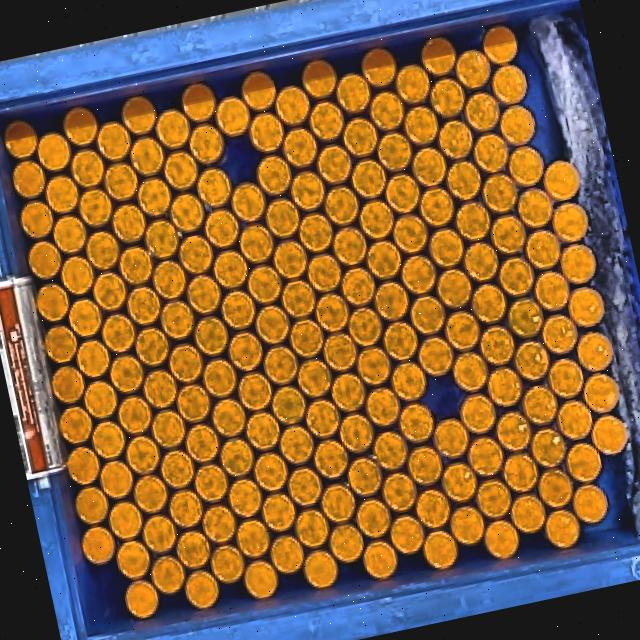vial: (541, 313, 578, 355), (567, 286, 604, 328), (565, 441, 602, 483), (463, 91, 500, 132), (533, 270, 570, 311), (467, 436, 504, 477), (471, 282, 507, 324), (507, 297, 543, 339), (508, 145, 544, 187), (543, 159, 579, 201), (552, 201, 588, 243), (302, 549, 339, 589), (475, 479, 512, 519), (591, 415, 628, 455), (220, 289, 256, 330), (238, 223, 274, 264), (254, 304, 290, 345), (342, 116, 378, 157), (351, 158, 387, 199), (391, 361, 427, 402), (398, 402, 434, 443), (401, 254, 437, 295), (417, 335, 453, 376), (428, 227, 464, 268), (436, 268, 472, 309), (460, 393, 496, 434), (420, 36, 456, 77), (455, 200, 491, 241), (490, 214, 526, 255), (482, 24, 518, 65), (491, 64, 527, 105), (548, 358, 584, 399), (560, 243, 596, 284), (583, 373, 619, 414), (441, 462, 477, 503), (496, 411, 532, 452), (503, 452, 539, 493), (530, 427, 566, 468), (557, 399, 593, 440), (211, 398, 246, 440), (265, 197, 300, 239), (446, 159, 481, 201), (482, 172, 517, 214), (382, 471, 417, 513), (62, 106, 98, 146), (212, 249, 248, 289), (256, 155, 292, 195), (373, 281, 409, 321), (382, 321, 418, 361), (409, 295, 445, 335), (403, 105, 439, 145), (463, 242, 499, 282), (479, 325, 515, 365), (454, 49, 490, 89), (499, 105, 535, 145), (243, 559, 279, 599), (362, 540, 398, 580), (483, 519, 519, 559), (522, 385, 558, 425), (537, 468, 573, 508), (545, 509, 581, 549), (92, 271, 127, 312), (152, 259, 187, 300), (155, 109, 190, 150), (163, 150, 198, 191), (169, 192, 204, 233), (219, 437, 254, 478), (189, 123, 224, 164), (196, 167, 231, 208), (228, 330, 263, 371), (245, 410, 280, 451), (263, 345, 298, 386), (249, 112, 284, 153), (305, 398, 340, 439), (275, 85, 310, 126), (282, 127, 317, 168), (290, 170, 325, 211), (339, 413, 374, 454), (309, 100, 344, 141), (316, 144, 351, 185), (324, 185, 359, 226), (365, 386, 400, 427), (335, 73, 370, 114), (359, 199, 394, 240), (377, 131, 412, 172), (385, 173, 420, 214), (393, 213, 428, 254), (419, 186, 454, 227), (444, 310, 479, 351), (438, 119, 473, 160), (473, 132, 508, 173), (499, 256, 534, 297), (514, 340, 549, 381), (525, 229, 560, 270), (577, 331, 612, 372), (184, 569, 219, 610), (235, 518, 270, 559), (261, 492, 296, 533), (287, 466, 322, 507), (415, 488, 450, 529), (423, 529, 458, 570), (433, 418, 468, 459), (450, 505, 485, 546), (511, 493, 546, 534), (129, 137, 165, 176), (296, 359, 332, 398), (411, 147, 447, 186), (572, 485, 608, 524), (3, 119, 38, 159), (11, 159, 46, 199), (52, 214, 87, 254), (67, 298, 102, 338), (83, 379, 118, 419), (91, 420, 126, 460), (70, 148, 105, 188), (101, 313, 136, 353), (117, 395, 152, 435), (125, 435, 160, 475), (111, 203, 146, 243), (143, 369, 178, 409), (151, 409, 186, 449), (144, 219, 179, 259), (168, 343, 203, 383), (185, 423, 220, 463), (181, 82, 216, 122), (237, 371, 272, 411), (215, 96, 250, 136), (231, 182, 266, 222), (271, 385, 306, 425), (279, 425, 314, 465), (241, 71, 276, 111), (272, 239, 307, 279), (281, 279, 316, 319), (322, 332, 357, 372), (302, 59, 337, 99), (332, 226, 367, 266), (341, 267, 376, 307), (366, 240, 401, 280), (361, 47, 396, 87), (395, 64, 430, 104), (453, 351, 488, 391), (487, 367, 522, 407), (517, 188, 552, 228), (81, 525, 116, 565), (108, 500, 143, 540), (142, 514, 177, 554), (150, 555, 185, 595), (133, 474, 168, 514), (168, 488, 203, 528), (210, 544, 245, 584), (227, 478, 262, 518), (253, 452, 288, 492), (313, 439, 348, 479), (321, 483, 356, 523), (329, 523, 364, 563), (347, 457, 382, 497), (356, 498, 391, 538), (373, 431, 408, 471), (389, 515, 424, 555), (407, 446, 442, 486), (37, 131, 71, 172), (60, 255, 94, 296), (204, 208, 238, 249), (135, 326, 169, 367), (247, 264, 281, 305), (298, 212, 332, 253), (295, 508, 329, 549), (35, 283, 70, 322), (109, 354, 144, 393), (96, 122, 131, 161), (103, 162, 138, 201), (178, 235, 213, 274), (175, 530, 210, 569), (202, 505, 237, 544), (19, 200, 53, 240), (27, 240, 61, 280), (50, 364, 84, 404), (45, 174, 79, 214), (99, 459, 133, 499), (119, 245, 153, 285), (126, 286, 160, 326), (160, 449, 194, 489), (122, 95, 156, 135), (137, 176, 171, 216), (160, 300, 194, 340), (187, 274, 221, 314), (194, 316, 228, 356), (203, 358, 237, 398), (289, 318, 323, 358), (307, 253, 341, 293), (331, 372, 365, 412), (356, 345, 390, 385), (370, 91, 404, 131), (430, 78, 464, 118), (116, 540, 150, 580), (124, 579, 158, 619), (270, 534, 304, 574), (59, 406, 93, 445), (66, 446, 100, 485), (78, 188, 112, 227), (85, 231, 119, 270), (315, 293, 349, 332), (348, 307, 382, 346), (76, 338, 109, 378), (195, 463, 228, 503), (75, 486, 109, 524), (44, 324, 77, 363), (177, 384, 210, 423)
